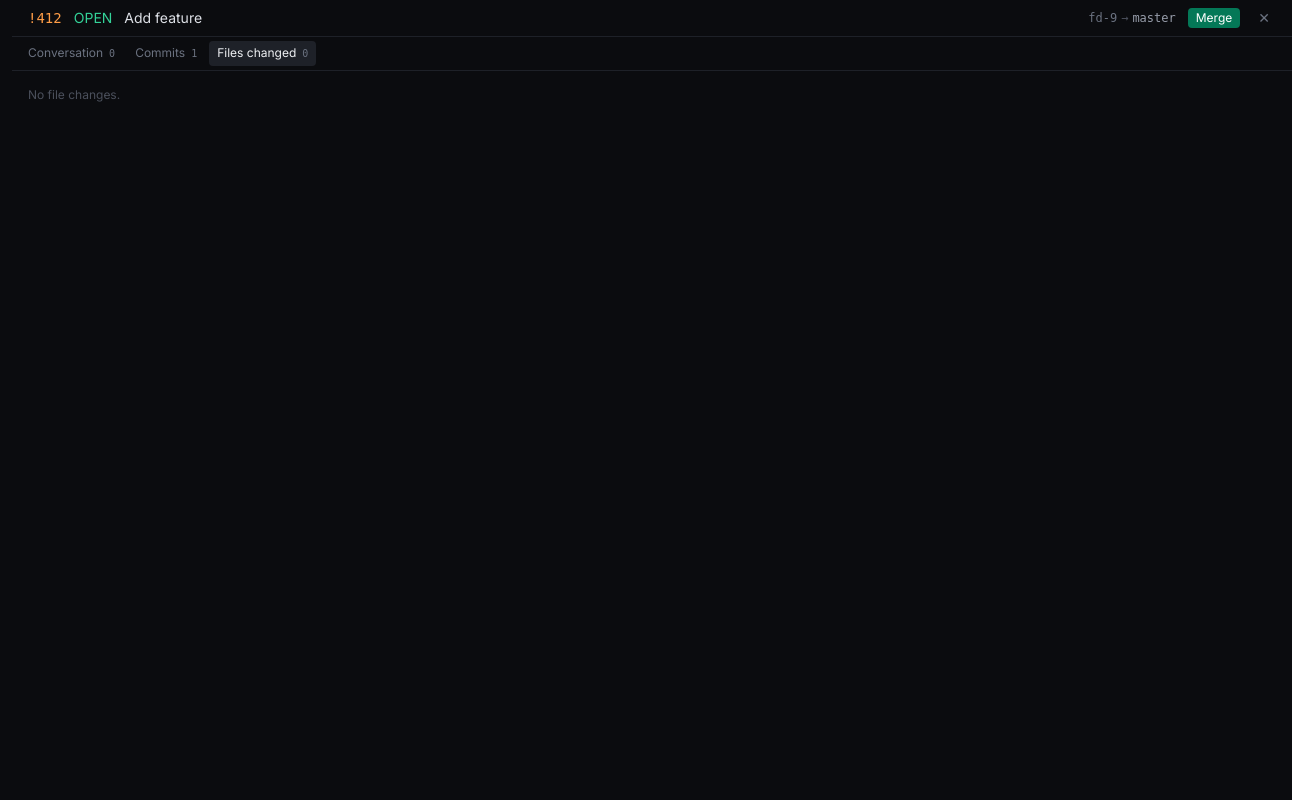
it: MrReview › opens a commit’s own diff in the pane instead of the browser
Click the button named "Commits 1".
click(166, 54)  # box [127,41,205,66]
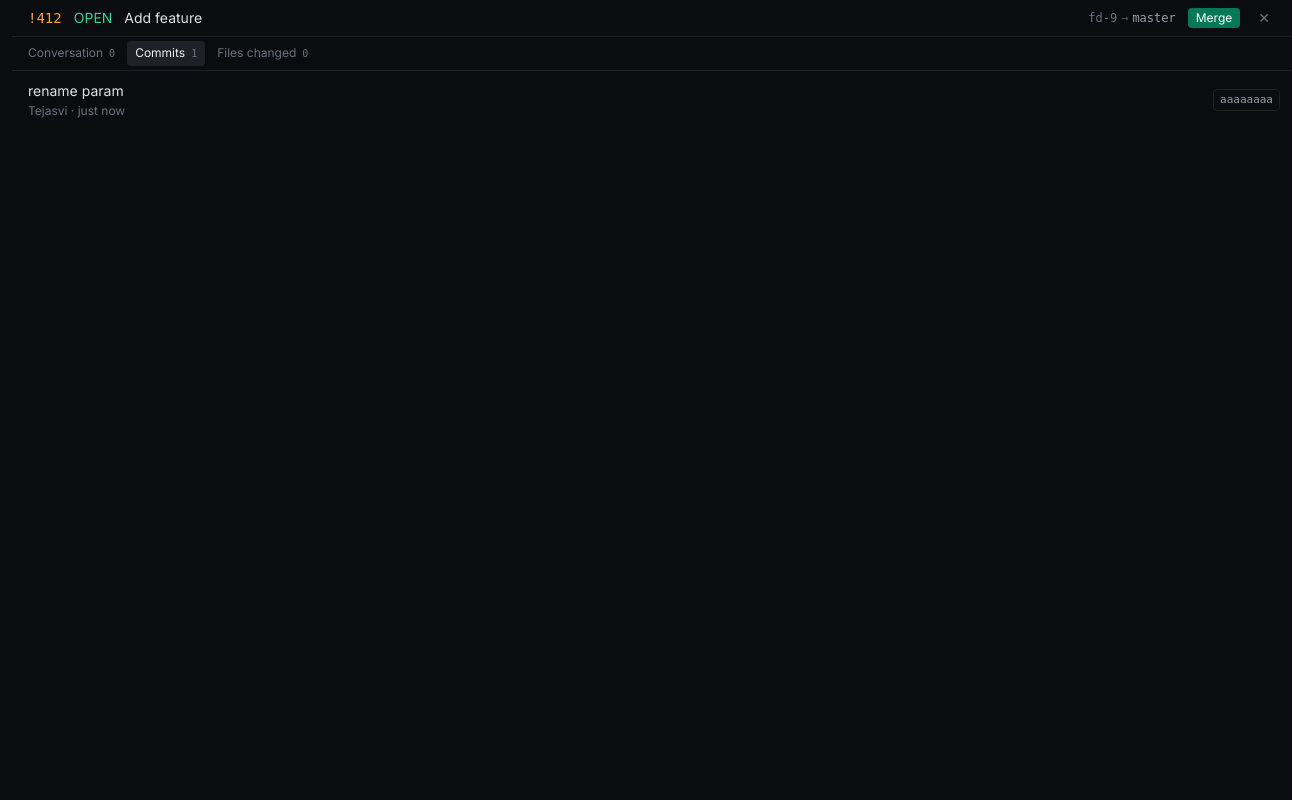
Click the button with aria-label "View commit aaaaaaaa".
click(76, 90)  # box [12,71,1213,129]
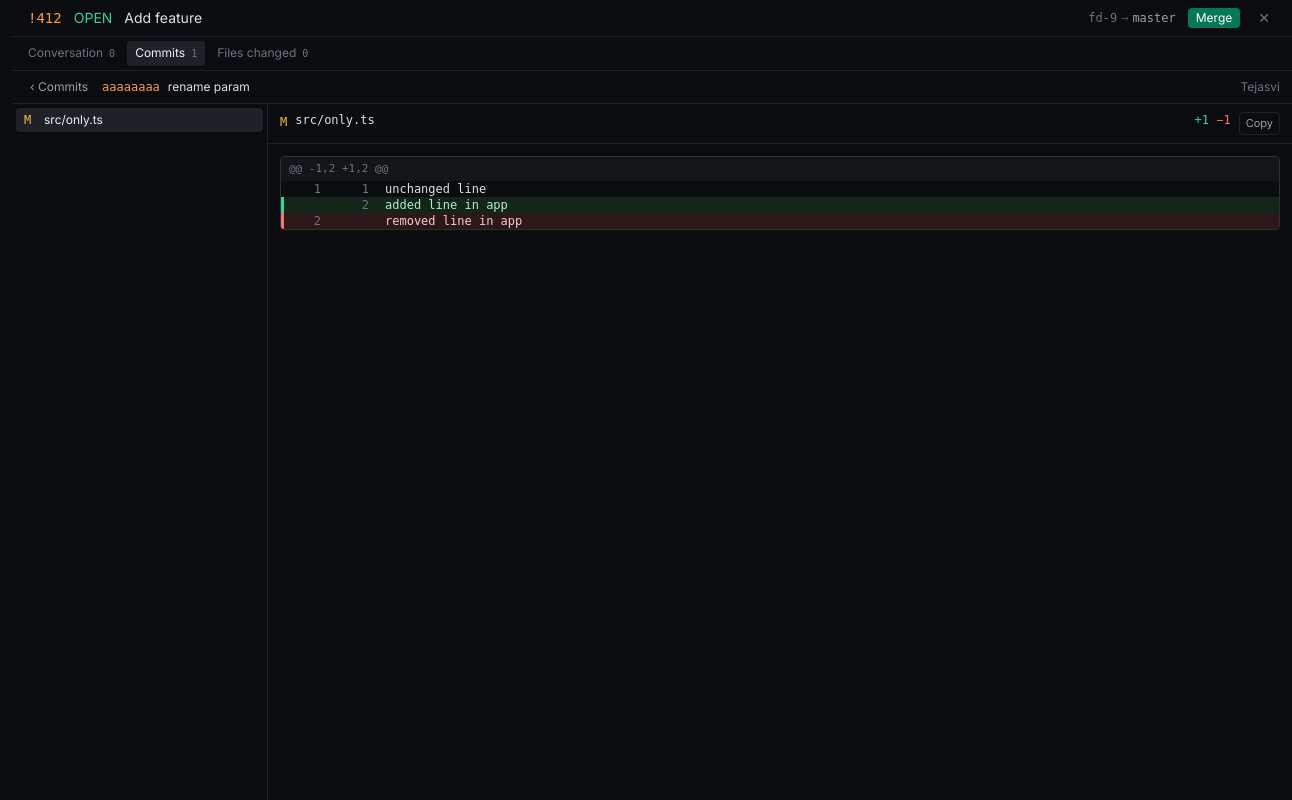
Check: the button "M src/only.ts" is shown, box [16,108,263,132]
Check: the text "added line in app" is shown, box [385,198,508,212]
// Back returns to the list rather than closing the whole review.
Click the button "‹ Commits".
click(59, 87)  # box [24,77,94,97]
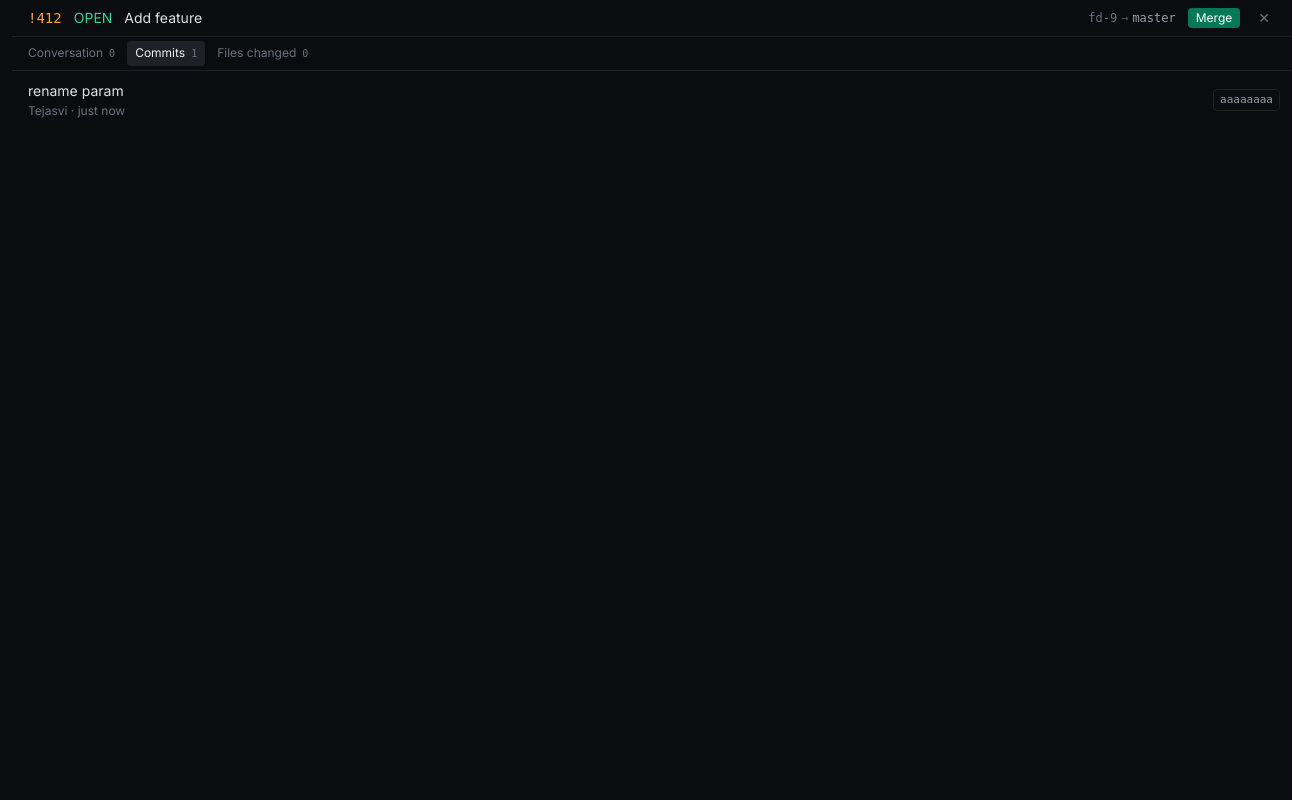
Check: the button with aria-label "View commit aaaaaaaa" is shown, box [12,71,1213,129]
